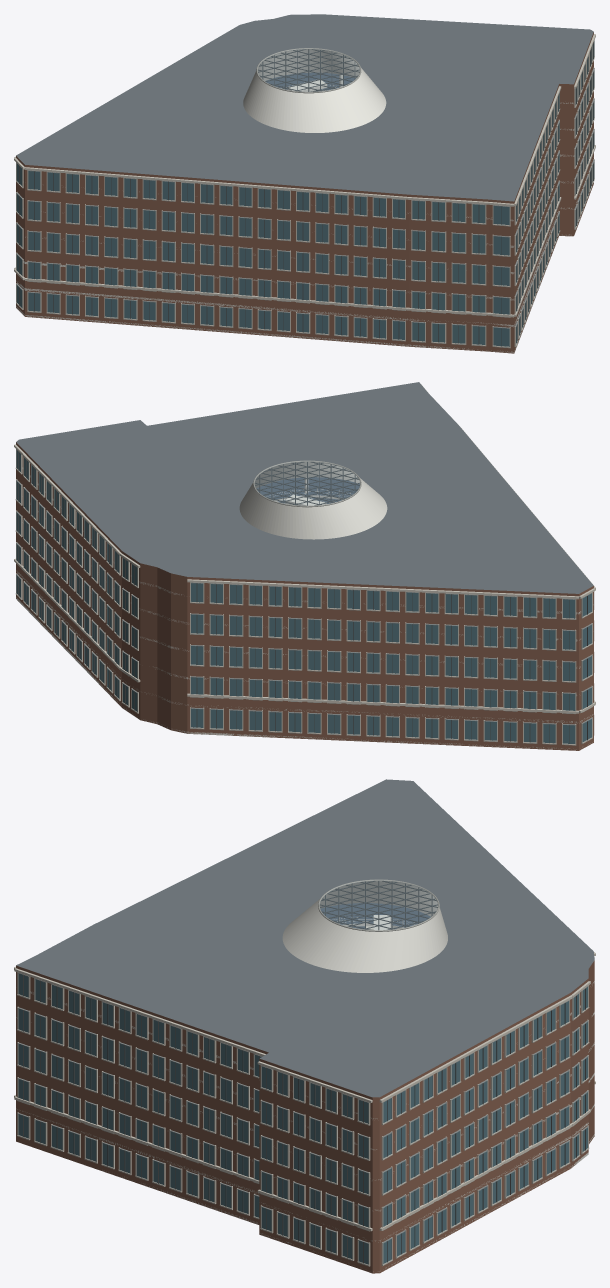
The model's file is lrb-exterior-b003c3b433a1.glb.
3 renders of one model, top to bottom at view 1: azimuth 30°, elevation 25°; view 2: azimuth 150°, elevation 25°; view 3: azimuth 270°, elevation 25°, orthographic. The views are drawn at different scales.
Parts seen in each view (by area): view 1: LRB.001; view 2: LRB.001; view 3: LRB.001.
Boxes of the visible parts, x1,y1,x2,y2 form: LRB.001: (14,14,595,353); LRB.001: (14,382,595,750); LRB.001: (14,779,595,1273).
Bounding box in the file's own units: 89.59 × 27.34 × 68.9.
